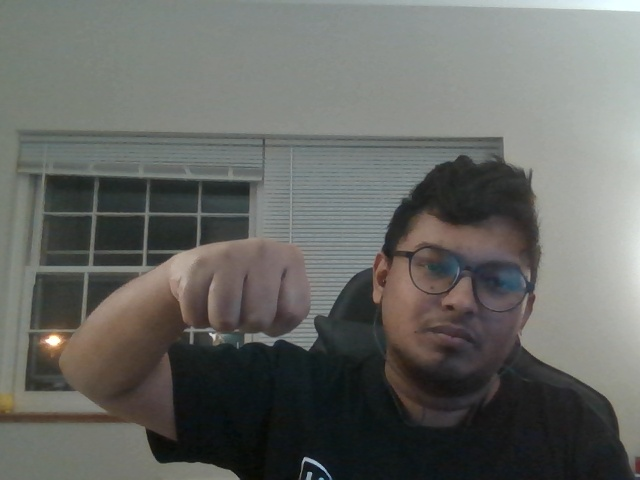yes: (139, 219, 343, 365)
